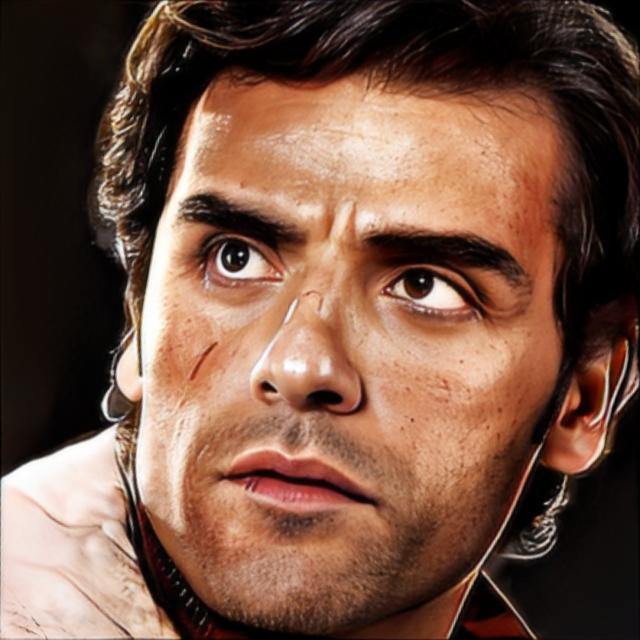anger: (138, 54, 558, 640)
